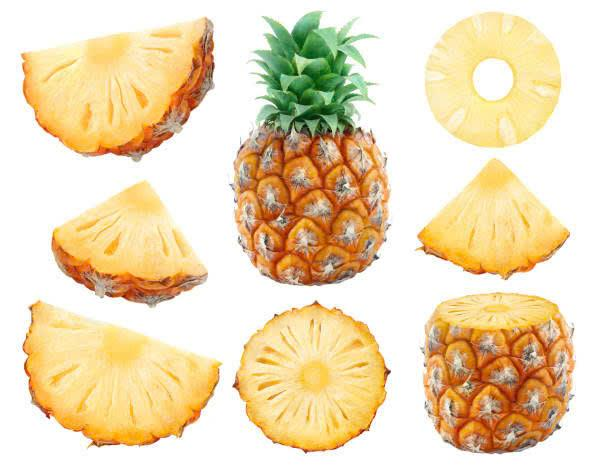pineapple: (226, 13, 389, 289), (17, 297, 229, 457), (8, 11, 222, 161), (419, 285, 578, 460), (231, 295, 396, 455), (420, 7, 563, 152), (54, 177, 211, 307), (419, 157, 571, 282)
